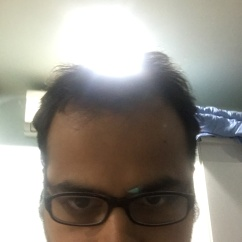glasses: (42, 188, 196, 226)
